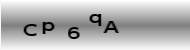6: (66, 25, 82, 39)
A: (102, 19, 119, 33)
C: (22, 22, 38, 37)
p: (41, 20, 55, 35)
q: (88, 13, 101, 26)
